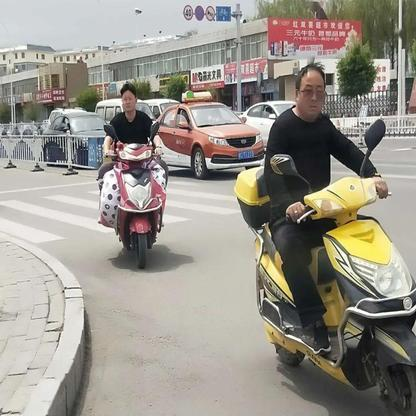target: (235, 64, 414, 410), (95, 82, 179, 271)
